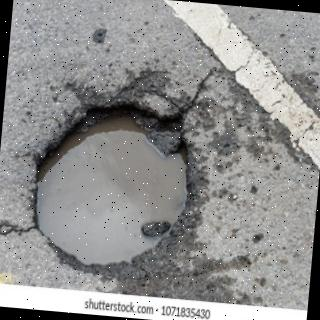pothole: (36, 106, 188, 266)
